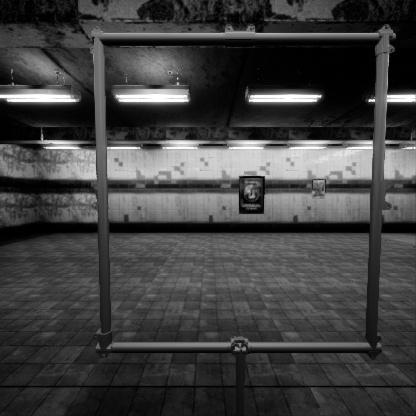gate: (93, 58, 416, 386)
